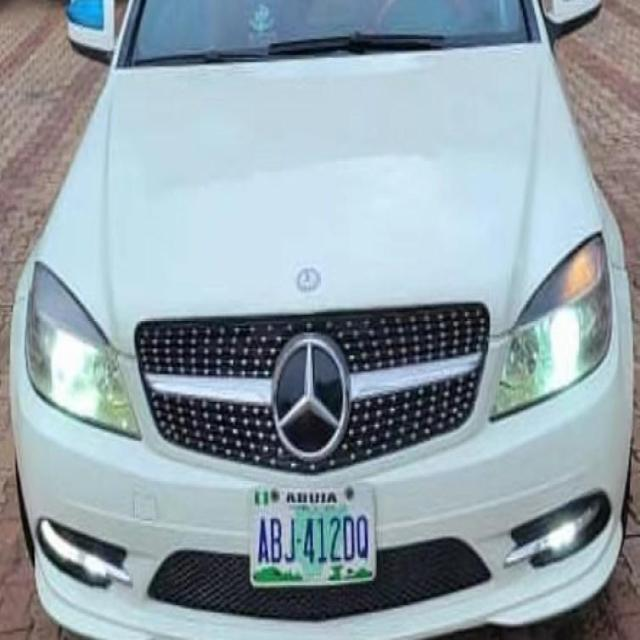Nigerian License Plate - vdataset benjamin-daria: (246, 482, 380, 590)
